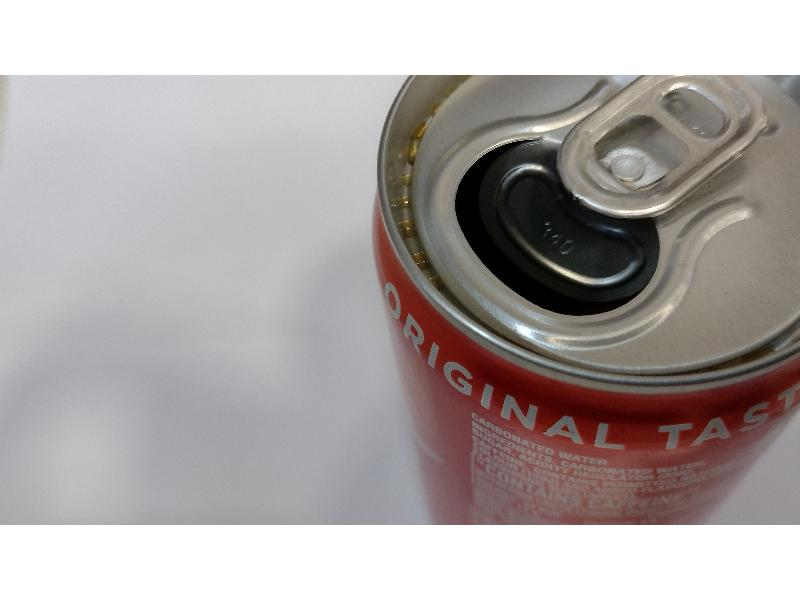can: (367, 73, 800, 522)
